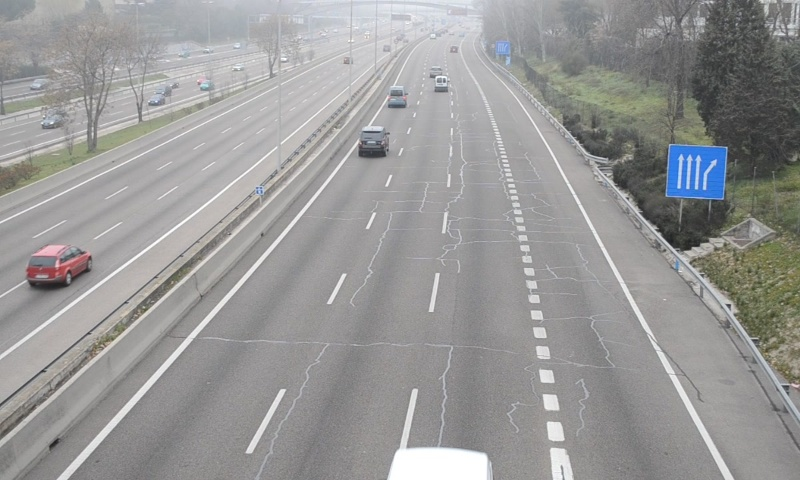car: (358, 126, 388, 155)
van: (387, 85, 408, 108)
